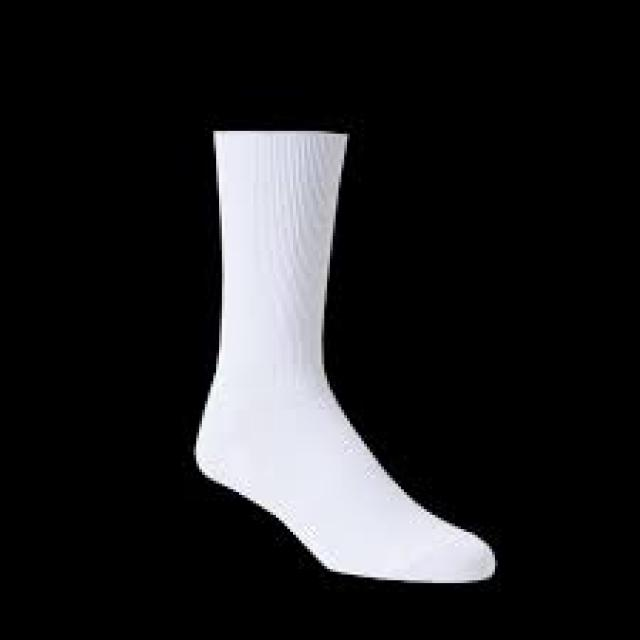sock: (190, 125, 498, 583)
